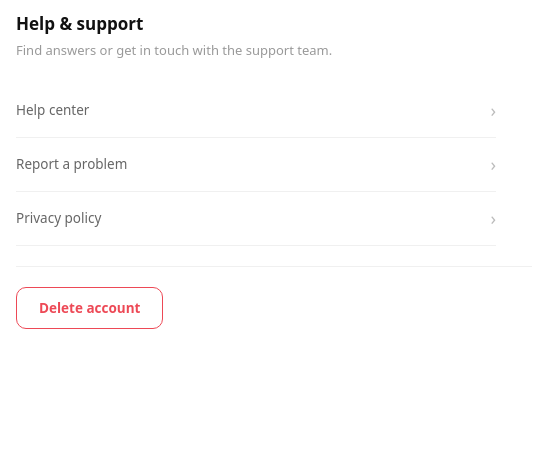
Test: HelpSection › hides the password field until Delete account is clicked
The width and height of the screenshot is (549, 463).
Check: the field with placeholder "Enter your password" is not shown
Click the button "Delete account".
click(90, 308)  # box [16,287,163,329]
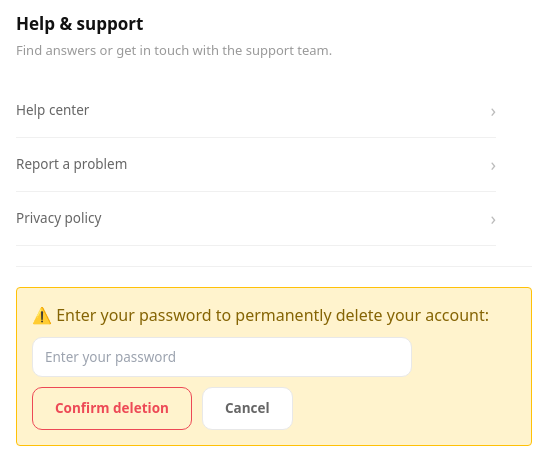
Check: the password field with placeholder "Enter your password" is shown, box [32,337,412,377]
